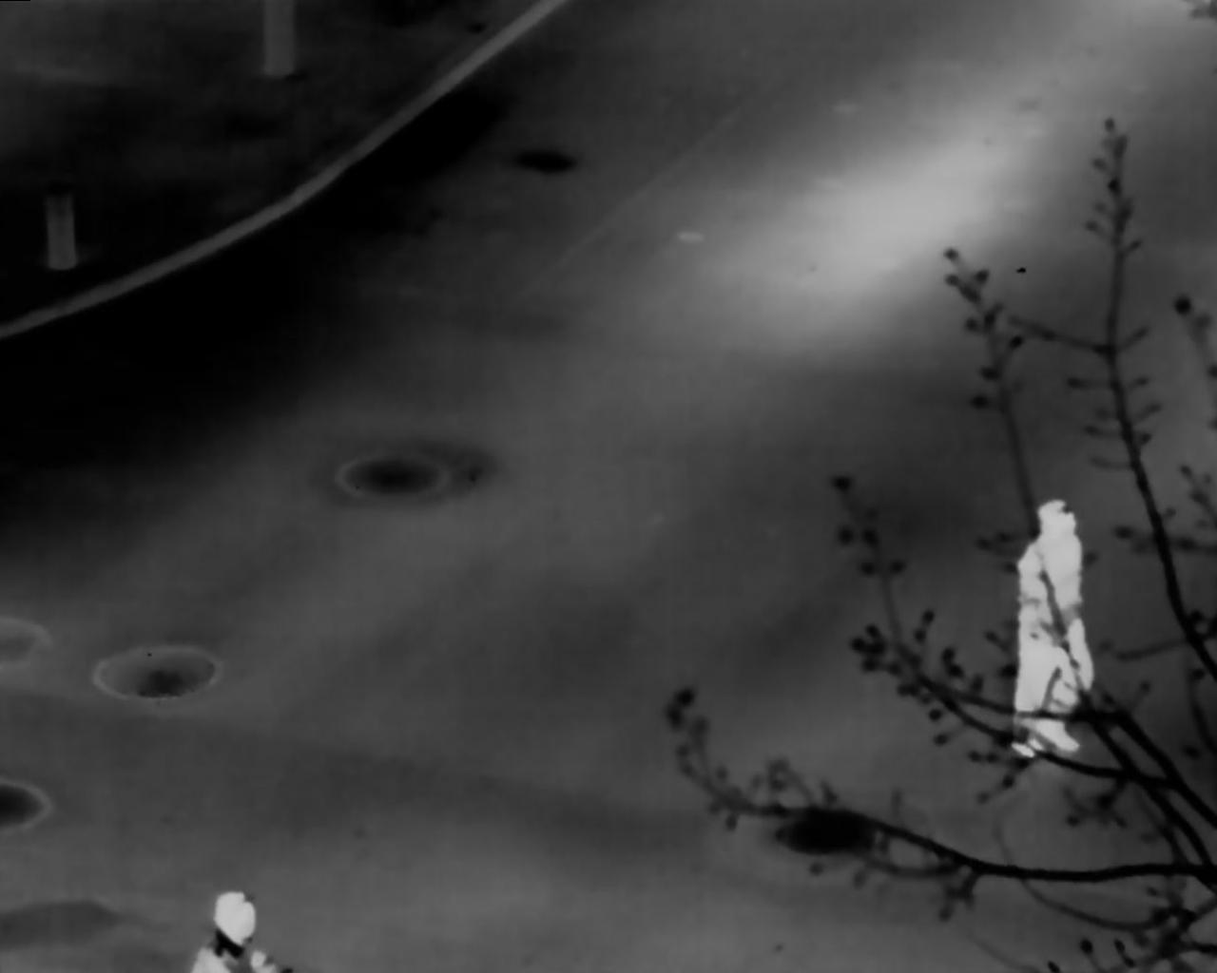person: (1013, 498, 1095, 756)
